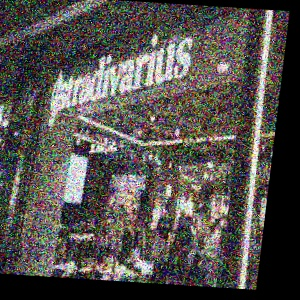stradivarius: (68, 62, 282, 92)
